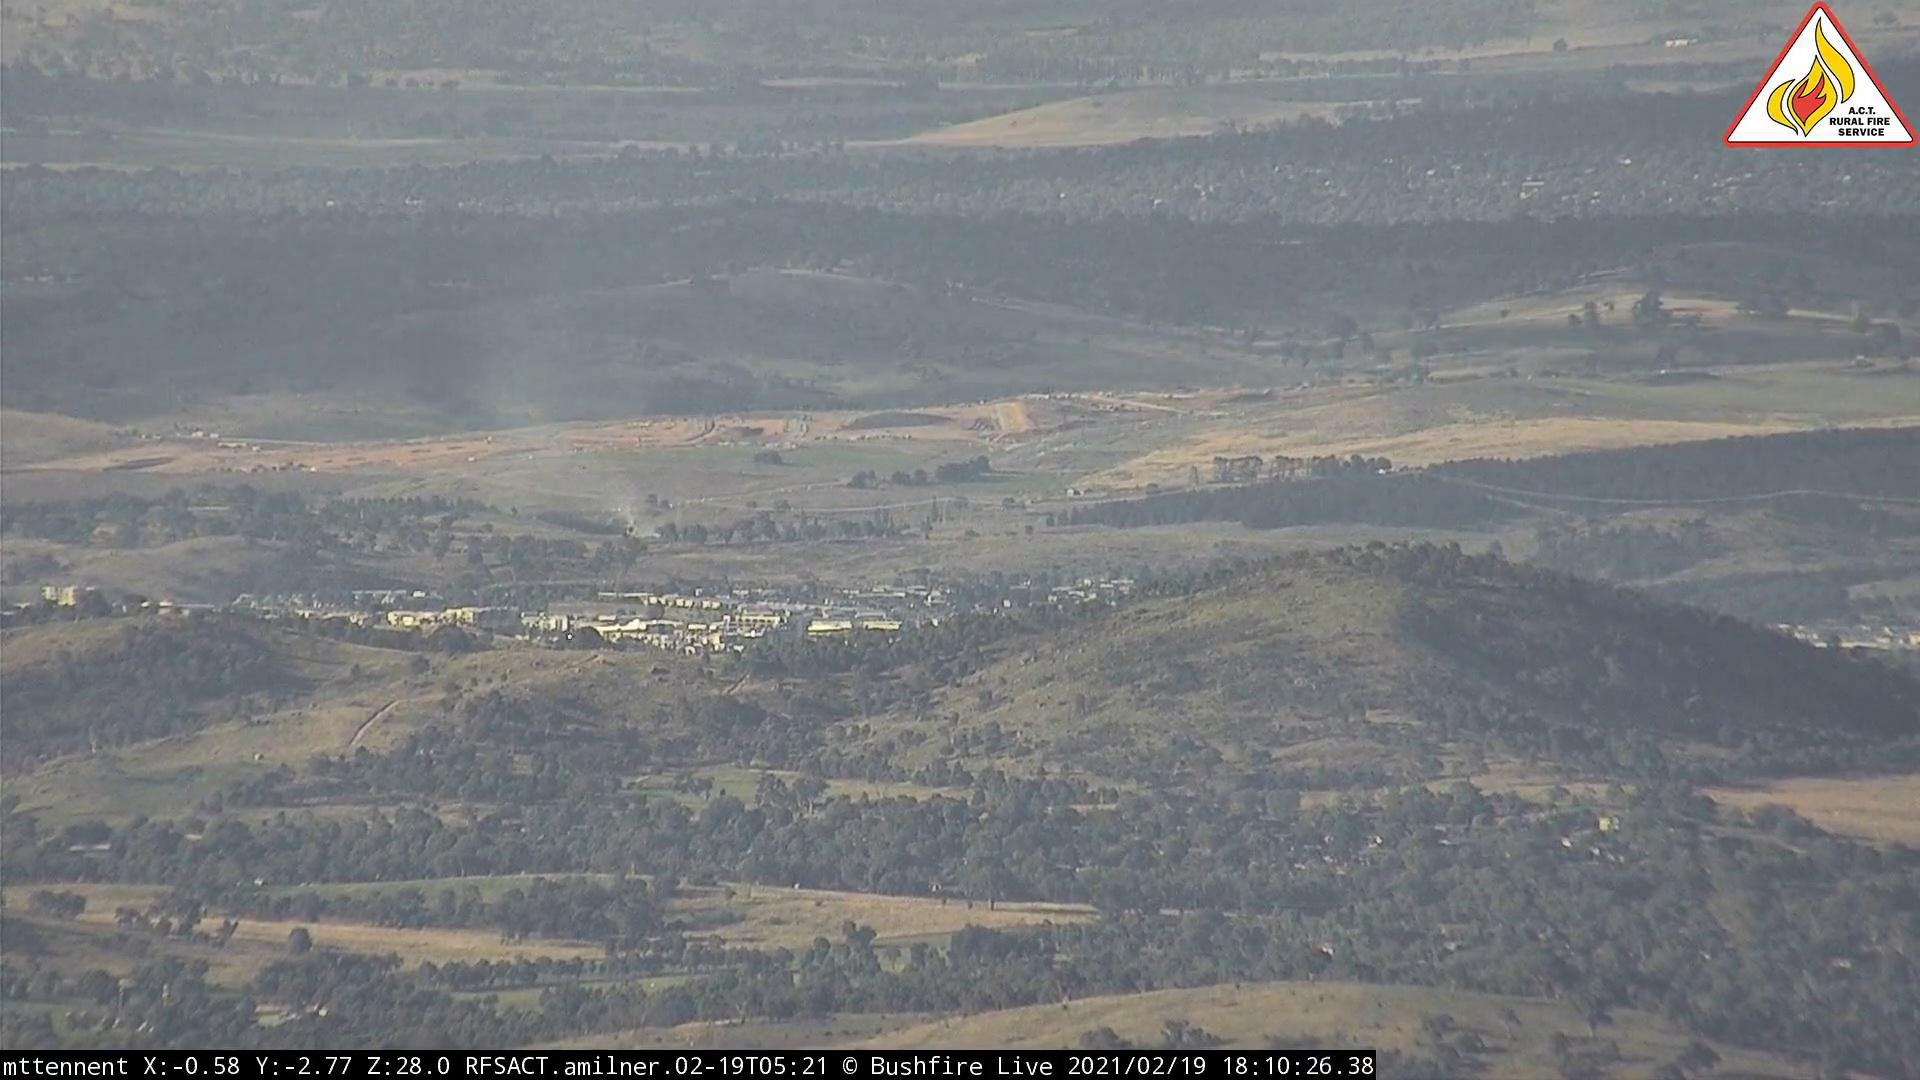Smoke: (608, 506, 662, 560)
